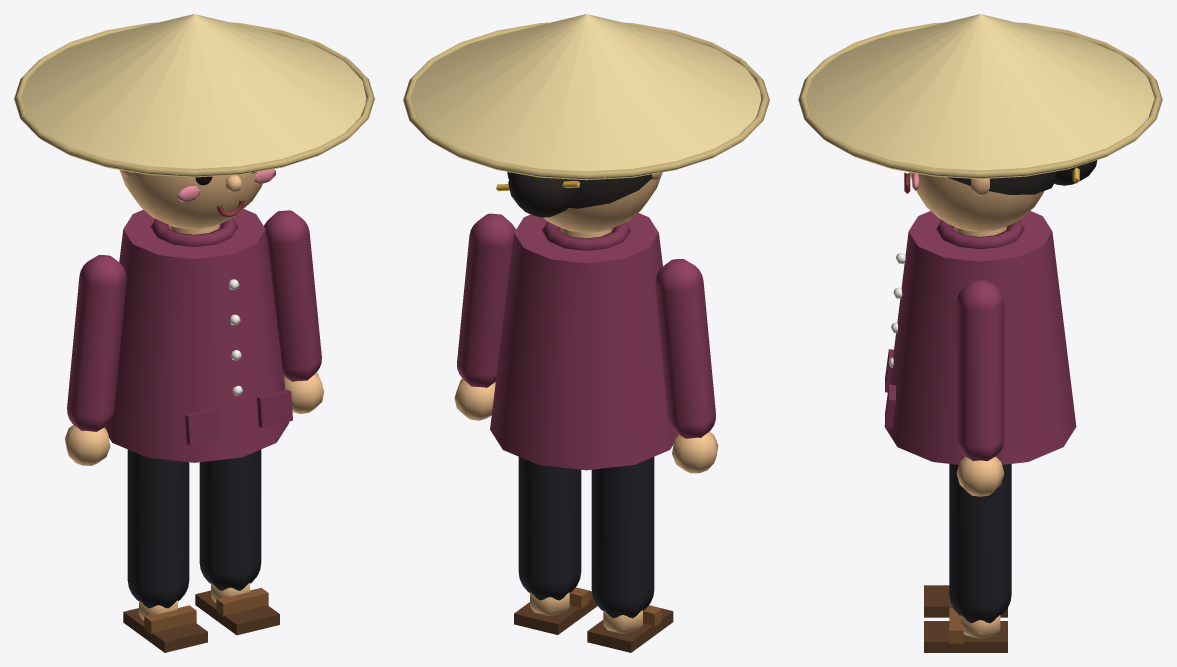
The model's file is nguoi_nu_2.glb.
3 views of the same model, side by side, from view 1: azimuth 30°, elevation 25°; view 2: azimuth 150°, elevation 25°; view 3: azimuth 270°, elevation 25° (orthographic).
Parts seen in each view (by area): view 1: Head, Body, LegL, LegR, ArmL, ArmR; view 2: Head, Body, LegL, LegR, ArmL, ArmR; view 3: Head, Body, LegR, ArmR, LegL.
Boxes of the visible parts, x1,y1,x2,y2 form: Head: [14, 14, 374, 229]; Body: [105, 209, 292, 462]; LegL: [123, 449, 207, 652]; LegR: [195, 449, 279, 635]; ArmL: [65, 255, 126, 465]; ArmR: [264, 210, 324, 413]; Head: [403, 14, 769, 232]; Body: [490, 213, 677, 470]; LegL: [587, 457, 673, 652]; LegR: [514, 457, 597, 634]; ArmL: [655, 259, 718, 473]; ArmR: [454, 213, 515, 420]; Head: [798, 14, 1162, 231]; Body: [884, 211, 1076, 464]; LegR: [924, 464, 1011, 652]; ArmR: [956, 280, 1004, 496]; LegL: [924, 585, 1007, 617].
Size of the model in its own units: 0.304 by 0.562 by 0.304.
